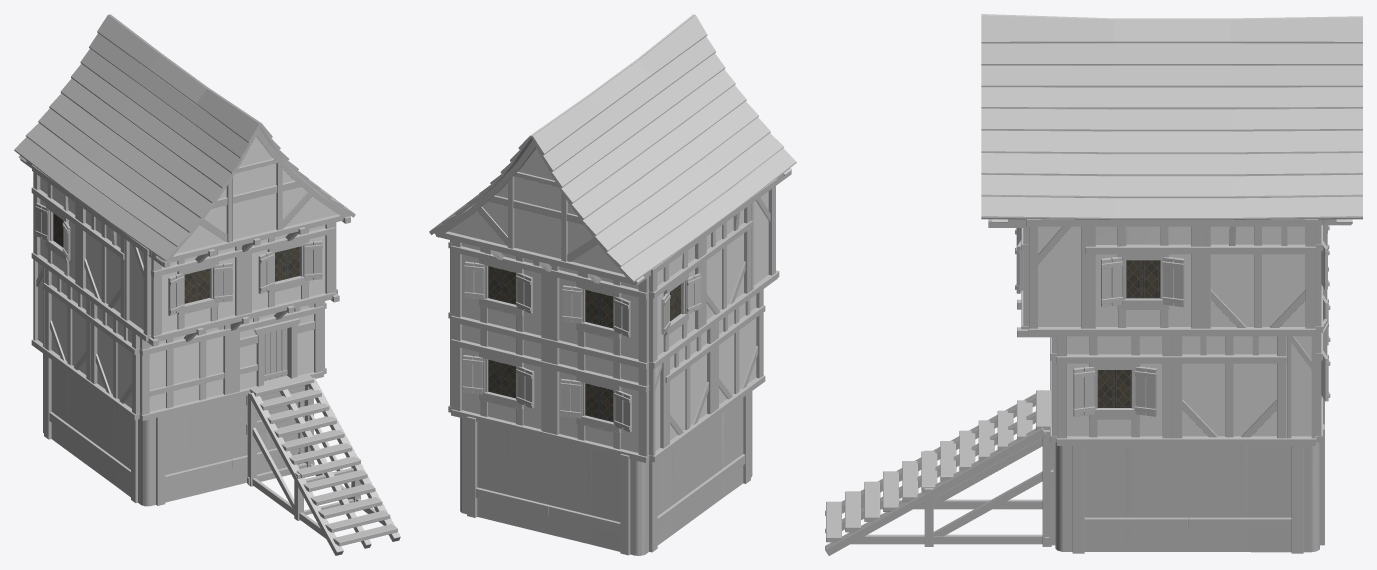
The model's file is House_1A11.fbx.
3 views of the same model, side by side, from view 1: azimuth 30°, elevation 25°; view 2: azimuth 150°, elevation 25°; view 3: azimuth 270°, elevation 25° (orthographic). The views are drawn at different scales.
Parts seen in each view (by area): view 1: House_1A11, Cube.2358, Plane.290, Plane.289; view 2: House_1A11, Plane.338, Plane.336, Plane.335, Plane.337; view 3: House_1A11, Plane.292, Plane.293.
Part boxes in pixels (x1,y1,x2,y2): House_1A11: (14,14,400,555); Cube.2358: (264,328,287,380); Plane.290: (275,246,300,281); Plane.289: (184,268,209,303); House_1A11: (429,14,796,555); Plane.338: (585,290,613,328); Plane.336: (585,383,613,421); Plane.335: (488,359,515,398); Plane.337: (488,266,515,304); House_1A11: (825,14,1362,555); Plane.292: (1126,260,1160,298); Plane.293: (1097,370,1131,407).
Size of the model in its own units: 915 by 1706 by 1686.
